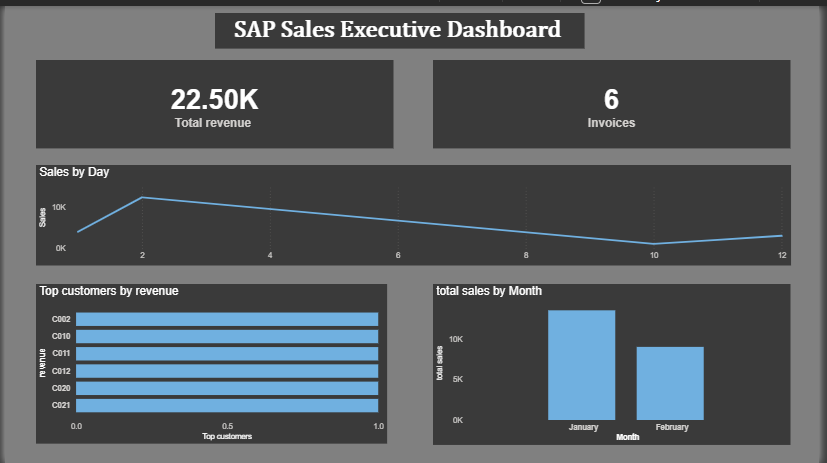

The dashboard page shown, as its layout file describes it:
{"tool":"powerbi","page":{"name":"Page 1","canvas":[1280,720],"ordinal":0},"visuals":[{"type":"card","fields":{"Values":["Sum(public vw_sales_daily.total_sales_sum)"]},"box":[130.2,0,243.4,139.6],"z":0},{"type":"card","fields":{"Values":["Sum(public vw_sales_daily.invoice_sum)"]},"box":[639.6,0,252.8,139.6],"z":1},{"type":"lineChart","fields":{"Y":["Sum(public vw_sales_daily.total_sales)"],"Category":["public vw_sales_daily.doc_date.Variation.Date Hierarchy.Day"]},"box":[43.4,156.6,950.9,203.8],"z":2},{"type":"barChart","fields":{"Category":["public vw_sales_by_customer.card_code"],"Y":["Sum(public vw_sales_by_customer.invoices)"]},"box":[30.2,411.3,445.3,288.7],"z":3},{"type":"columnChart","fields":{"Category":["public vw_sales_monthly.month.Variation.Date Hierarchy.Month","public vw_sales_monthly.month.Variation.Date Hierarchy.Day"],"Y":["Sum(public vw_sales_monthly.total_sales)"]},"box":[573.6,411.3,449.1,290.6],"z":4}]}

Visuals, with their boxes in screenshot pixels (x1, y1, x2, y2), scaled from the page's 1280x720 canvas onto the 827x463 screenshot:
card - Sum(public vw_sales_daily.total_sales_sum): x1=84, y1=0, x2=241, y2=90
card - Sum(public vw_sales_daily.invoice_sum): x1=413, y1=0, x2=577, y2=90
lineChart - Sum(public vw_sales_daily.total_sales) x public vw_sales_daily.doc_date.Variation.Date Hierarchy.Day: x1=28, y1=101, x2=642, y2=232
barChart - public vw_sales_by_customer.card_code x Sum(public vw_sales_by_customer.invoices): x1=20, y1=264, x2=307, y2=450
columnChart - public vw_sales_monthly.month.Variation.Date Hierarchy.Month x public vw_sales_monthly.month.Variation.Date Hierarchy.Day: x1=371, y1=264, x2=661, y2=451
